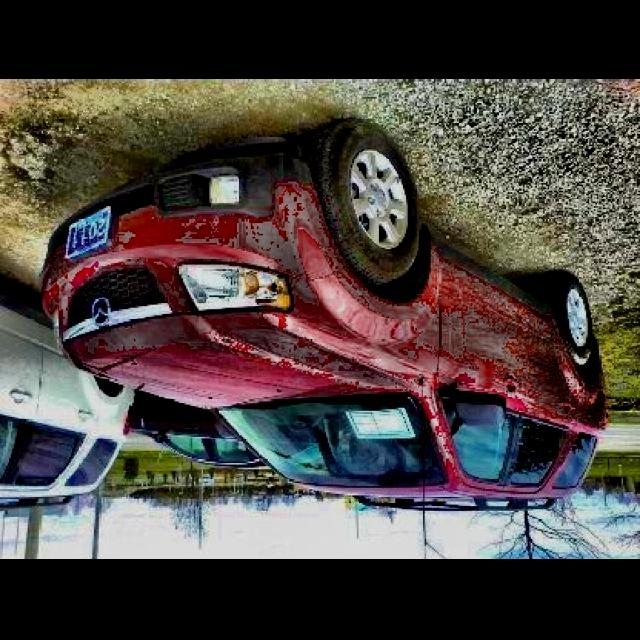maroon: (44, 121, 605, 507)
